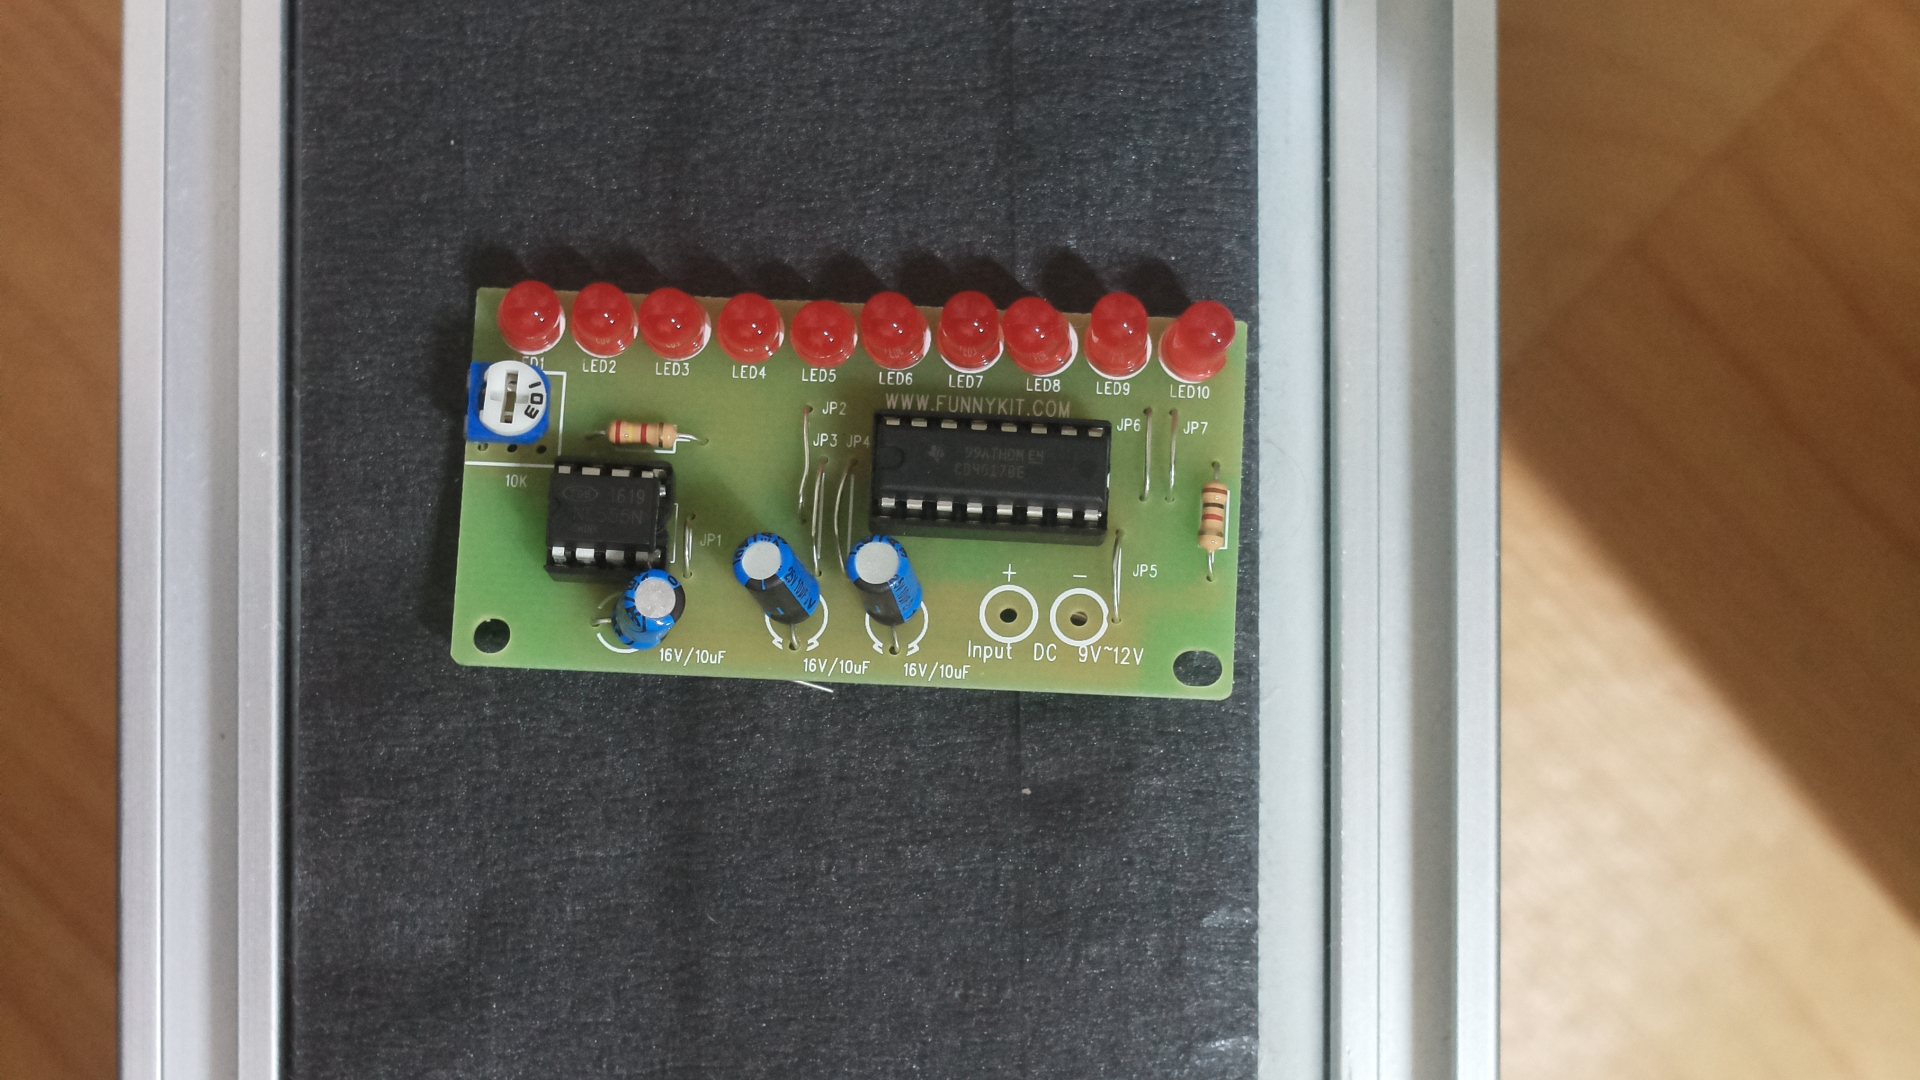B_Normal: (451, 247, 1267, 733)
